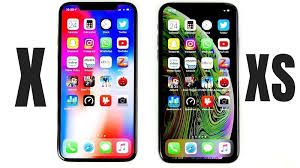iphone: (154, 1, 240, 163), (57, 2, 136, 163)
iphone10: (154, 1, 240, 163), (57, 2, 136, 163)
